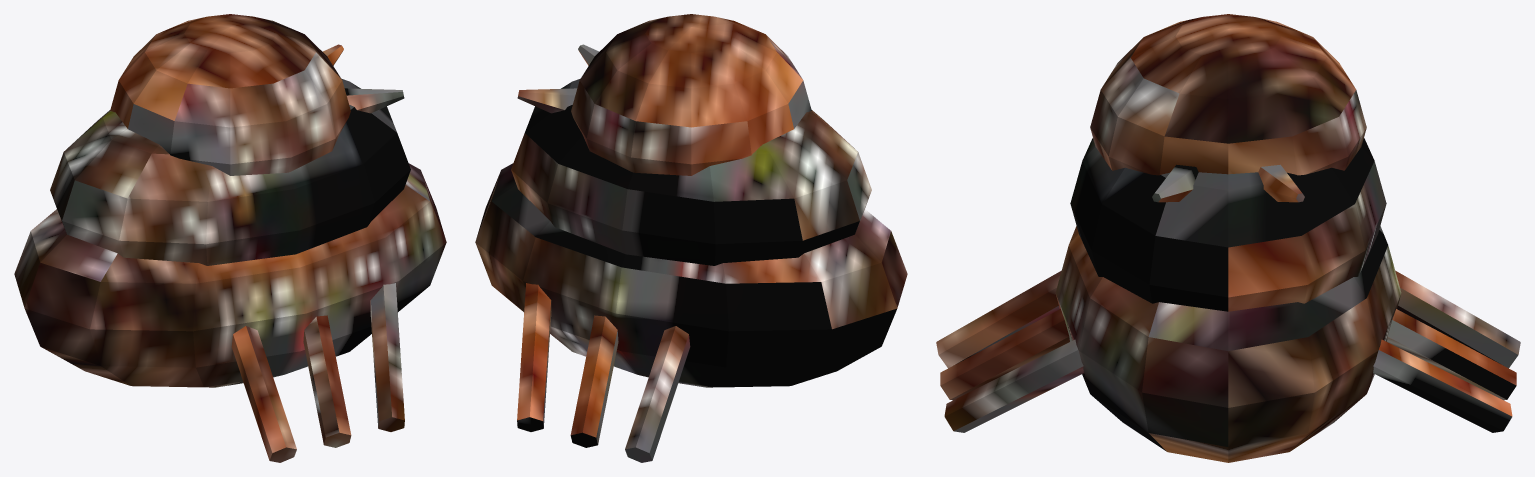
Rendered from bug_scavenger.glb.
3 views of the same model, side by side, from view 1: azimuth 30°, elevation 25°; view 2: azimuth 150°, elevation 25°; view 3: azimuth 270°, elevation 25° (orthographic). The views are drawn at different scales.
Visible parts, largest first — view 1: bug_scavenger; view 2: bug_scavenger; view 3: bug_scavenger.
Part boxes in pixels (x1,y1,x2,y2): bug_scavenger: [14, 14, 446, 462]; bug_scavenger: [475, 14, 907, 462]; bug_scavenger: [936, 14, 1520, 462].
Bounding box in the file's own units: 1.39 × 1.1 × 1.5.
Materials: 1 (1 with a texture image).
